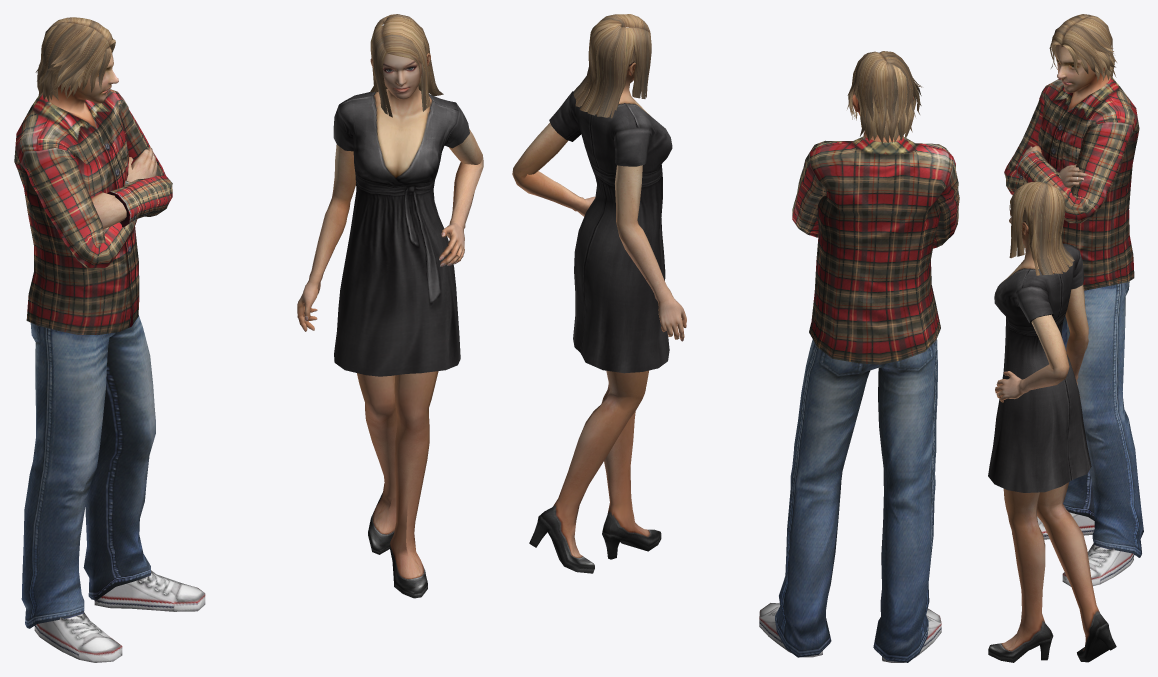
File: couple.FBX
3 renders of one model, left to right at view 1: azimuth 30°, elevation 25°; view 2: azimuth 150°, elevation 25°; view 3: azimuth 270°, elevation 25°, orthographic. The views are drawn at different scales.
Parts seen in each view (by area): view 1: Object01_001, objpolySur_001; view 2: Object01_001, objpolySur_001; view 3: Object01_001, objpolySur_001.
Part boxes in pixels (left/top/right/bottom): Object01_001: left=14, top=17, right=205, bottom=662; objpolySur_001: left=297, top=14, right=483, bottom=598; Object01_001: left=759, top=51, right=959, bottom=662; objpolySur_001: left=512, top=14, right=686, bottom=573; Object01_001: left=1004, top=14, right=1143, bottom=586; objpolySur_001: left=988, top=182, right=1116, bottom=662.
Size of the model in its own units: 144 by 184 by 50.18.
7 materials, 6 textured.
